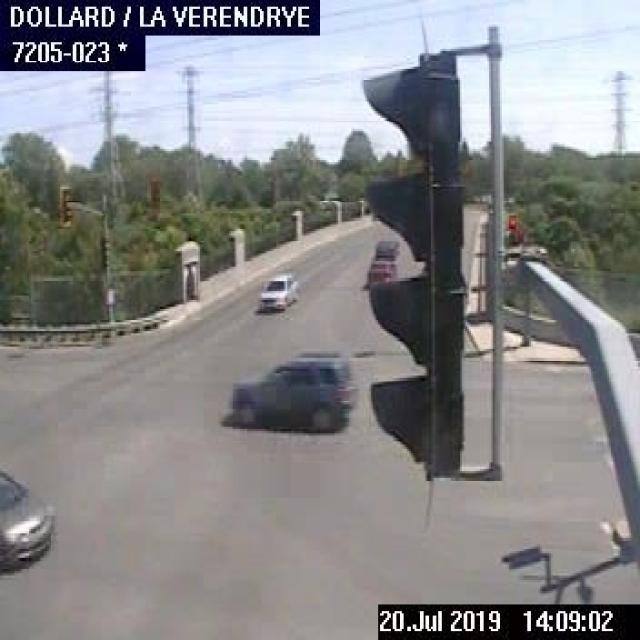vehicle: (228, 347, 353, 429), (0, 464, 53, 576), (254, 269, 294, 311), (361, 256, 395, 286), (372, 234, 400, 256)
